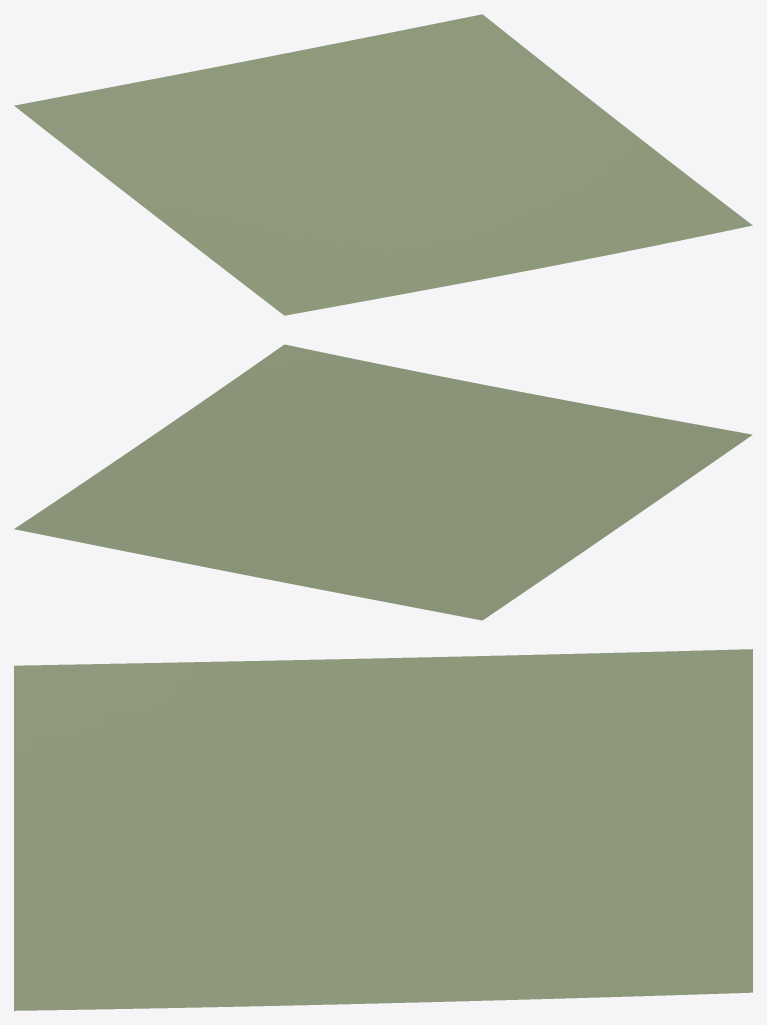
The model's file is desert-2-20.glb.
3 renders of one model, top to bottom at view 1: azimuth 30°, elevation 25°; view 2: azimuth 150°, elevation 25°; view 3: azimuth 270°, elevation 25°, orthographic. The views are drawn at different scales.
Visible parts, largest first — view 1: desert-2-20; view 2: desert-2-20; view 3: desert-2-20.
Boxes of the visible parts, left/top/right/bottom form: desert-2-20: left=14, top=14, right=752, bottom=315; desert-2-20: left=14, top=344, right=752, bottom=620; desert-2-20: left=14, top=649, right=752, bottom=1010.
Size of the model in its own units: 512 by 37.78 by 512.
